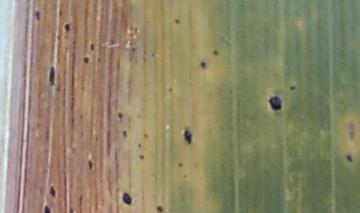tarspot: (268, 95, 282, 111), (47, 64, 55, 86), (347, 121, 355, 142), (183, 128, 192, 145), (122, 192, 132, 205), (48, 183, 56, 198), (87, 158, 94, 170), (62, 23, 71, 32), (156, 204, 165, 213), (34, 11, 41, 21), (44, 203, 51, 213), (138, 154, 146, 161), (117, 112, 124, 120), (346, 155, 353, 163), (212, 49, 220, 56), (89, 41, 95, 50), (289, 84, 296, 91), (167, 85, 173, 93), (200, 61, 206, 69), (173, 19, 181, 25), (82, 57, 90, 63), (57, 8, 63, 16), (142, 133, 149, 138), (122, 131, 127, 137), (177, 162, 183, 167), (69, 206, 73, 213), (137, 143, 142, 148)
